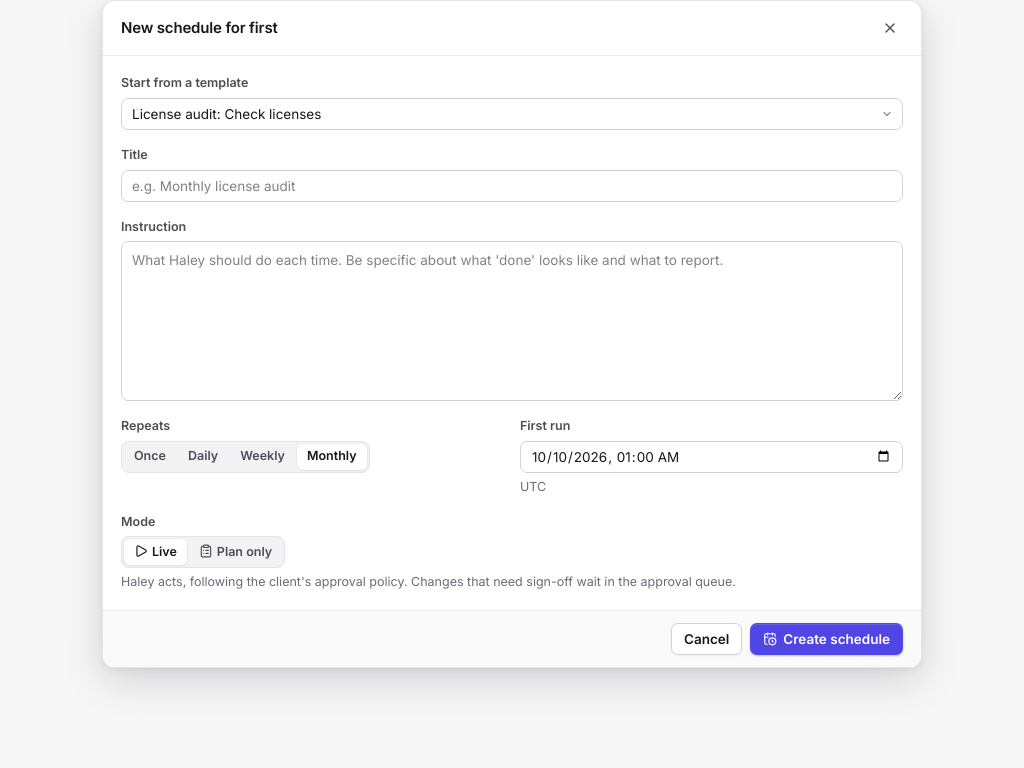
client schedule recipes › blocks stale recipe submission while client availability reloads, surfaces failures and retries
This screenshot has width=1024, height=768.
Step 1. Select "License audit: Check licenses" in the dropdown with id "ns-template" → x=512, y=114, box [121,98,903,130]
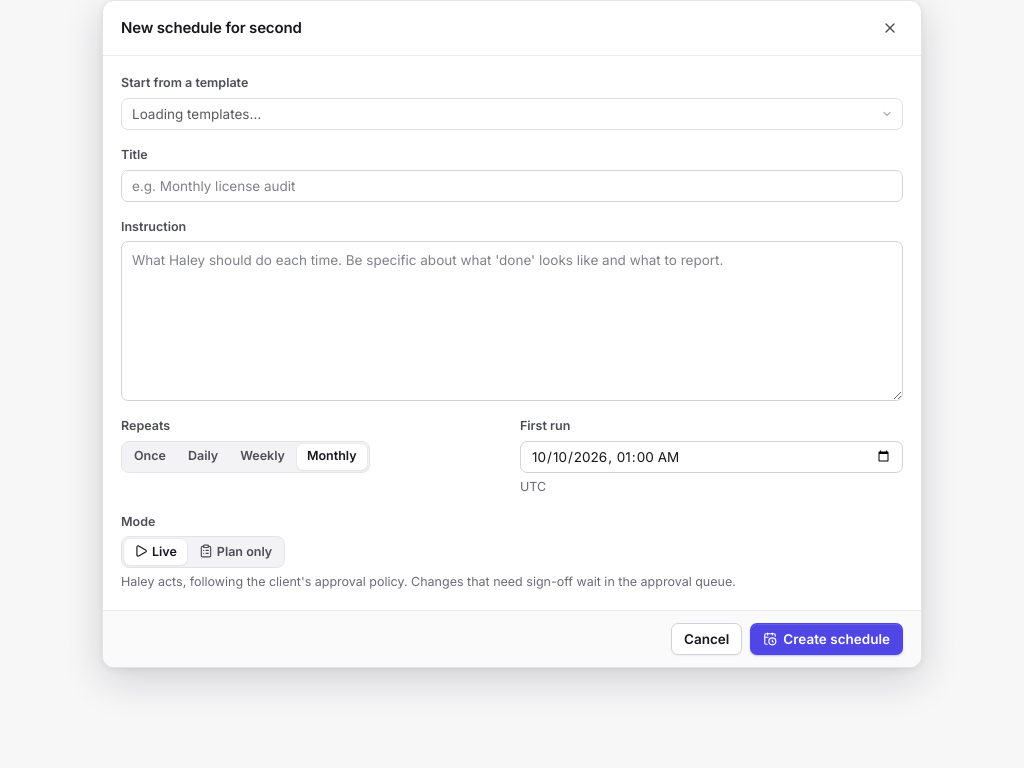
Expected: the dropdown with id "ns-template" is disabled, [121,98,903,130]
Step 2. Submit the form, box [121,74,903,592]
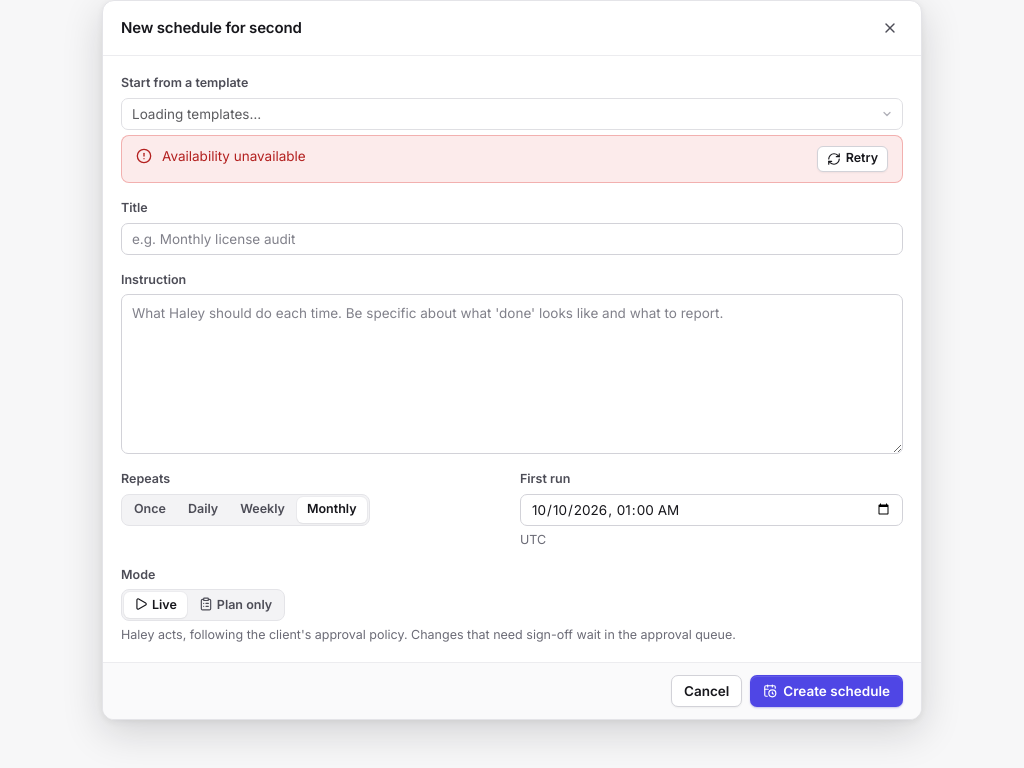
Expected: the text "Availability unavailable" is shown, [162,148,306,164]
Step 3. Click the button "Retry" → x=852, y=159, box [817,146,888,172]
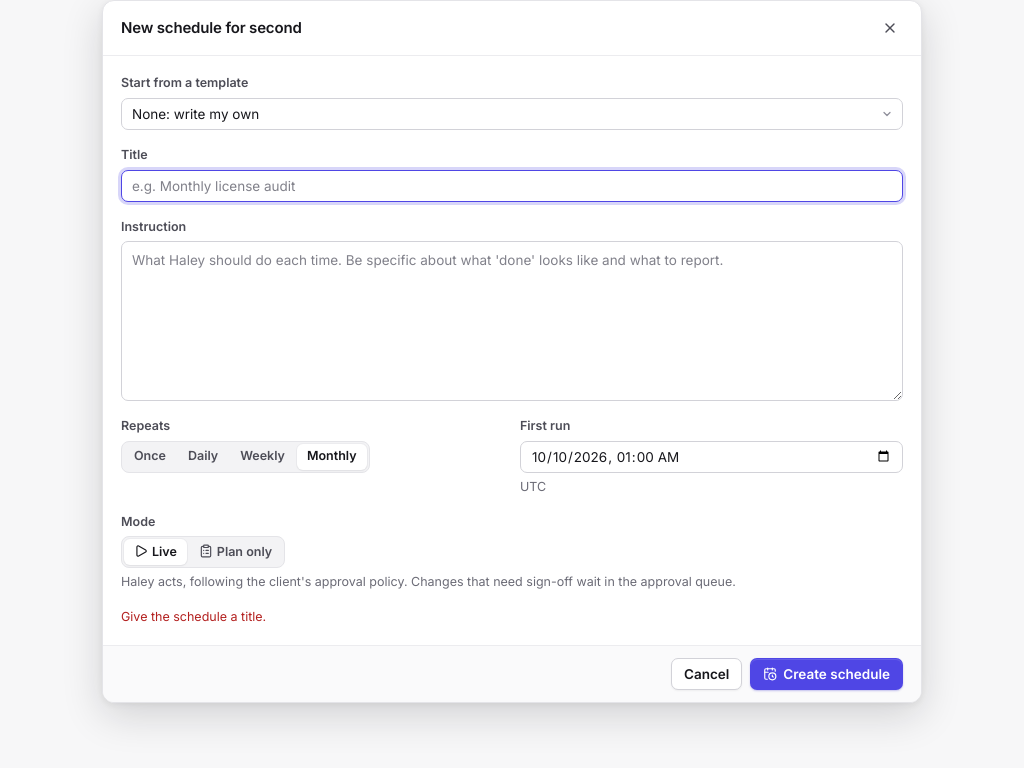
Expected: the dropdown with id "ns-template" is enabled, [121,98,903,130]
